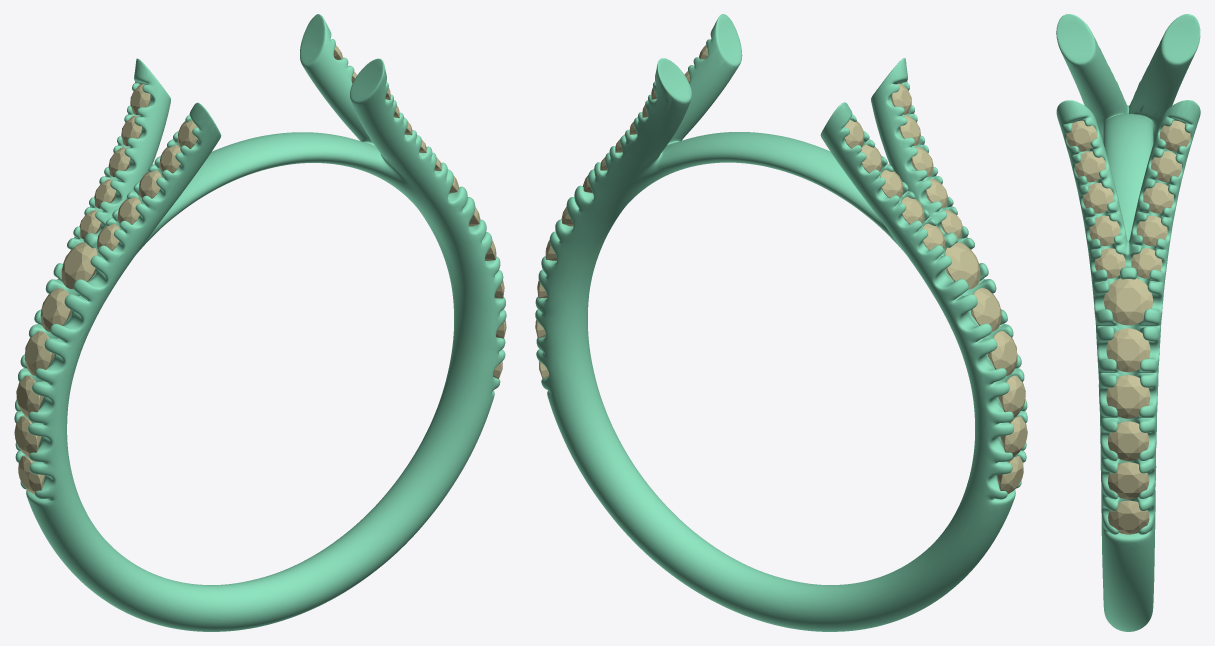
The picture shows the model from 3 angles, left to right: view 1: azimuth 30°, elevation 25°; view 2: azimuth 150°, elevation 25°; view 3: azimuth 270°, elevation 25°; orthographic projection. The views are drawn at different scales.
Parts seen in each view (by area): view 1: Metal02, Diamond_Gem.026, Diamond_Gem.025, Diamond_Gem.024, Diamond_Gem.023, Diamond_Gem.022; view 2: Metal02, Diamond_Gem.026, Diamond_Gem.025, Diamond_Gem.024, Diamond_Gem.023; view 3: Metal02, Diamond_Gem.005, Diamond_Gem.006, Diamond_Gem.007, Diamond_Gem.008, Diamond_Gem.009, Diamond_Gem.010, Diamond_Gem.002, Diamond_Gem.013, Diamond_Gem.012, Diamond_Gem, Diamond_Gem.003 (+5 smaller).
Boxes of the visible parts, left/top/right/bottom form: Metal02: left=14, top=14, right=506, bottom=631; Diamond_Gem.026: left=61, top=242, right=97, bottom=289; Diamond_Gem.025: left=40, top=288, right=70, bottom=331; Diamond_Gem.024: left=24, top=331, right=54, bottom=375; Diamond_Gem.023: left=16, top=375, right=43, bottom=417; Diamond_Gem.022: left=14, top=416, right=41, bottom=456; Metal02: left=535, top=14, right=1027, bottom=631; Diamond_Gem.026: left=944, top=242, right=980, bottom=289; Diamond_Gem.025: left=971, top=288, right=1001, bottom=331; Diamond_Gem.024: left=987, top=331, right=1017, bottom=375; Diamond_Gem.023: left=998, top=375, right=1025, bottom=417; Metal02: left=1056, top=14, right=1200, bottom=631; Diamond_Gem.005: left=1104, top=278, right=1152, bottom=325; Diamond_Gem.006: left=1106, top=328, right=1150, bottom=372; Diamond_Gem.007: left=1106, top=375, right=1150, bottom=418; Diamond_Gem.008: left=1108, top=421, right=1149, bottom=460; Diamond_Gem.009: left=1108, top=462, right=1149, bottom=499; Diamond_Gem.010: left=1108, top=500, right=1149, bottom=534; Diamond_Gem.002: left=1143, top=183, right=1173, bottom=213; Diamond_Gem.013: left=1083, top=183, right=1113, bottom=213; Diamond_Gem.012: left=1089, top=215, right=1120, bottom=246; Diamond_Gem: left=1159, top=120, right=1190, bottom=151; Diamond_Gem.003: left=1136, top=215, right=1167, bottom=246.
Size of the model in its own units: 20.96 by 23.5 by 5.58.
